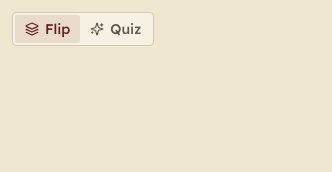
Test: the switch › switches and stores the choice
The image size is (332, 172).
Later steps or results of the test are not shown.
What coordinates should you click on to do the following:
click the radio button labelled "Quiz"
I would click on:
 (116, 29)
Its box is [80,15,151,43].
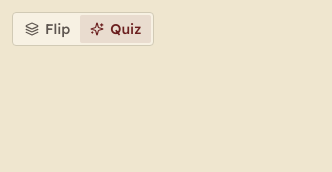
Check: the radio button labelled "Quiz" is checked, box [80,15,151,43]
